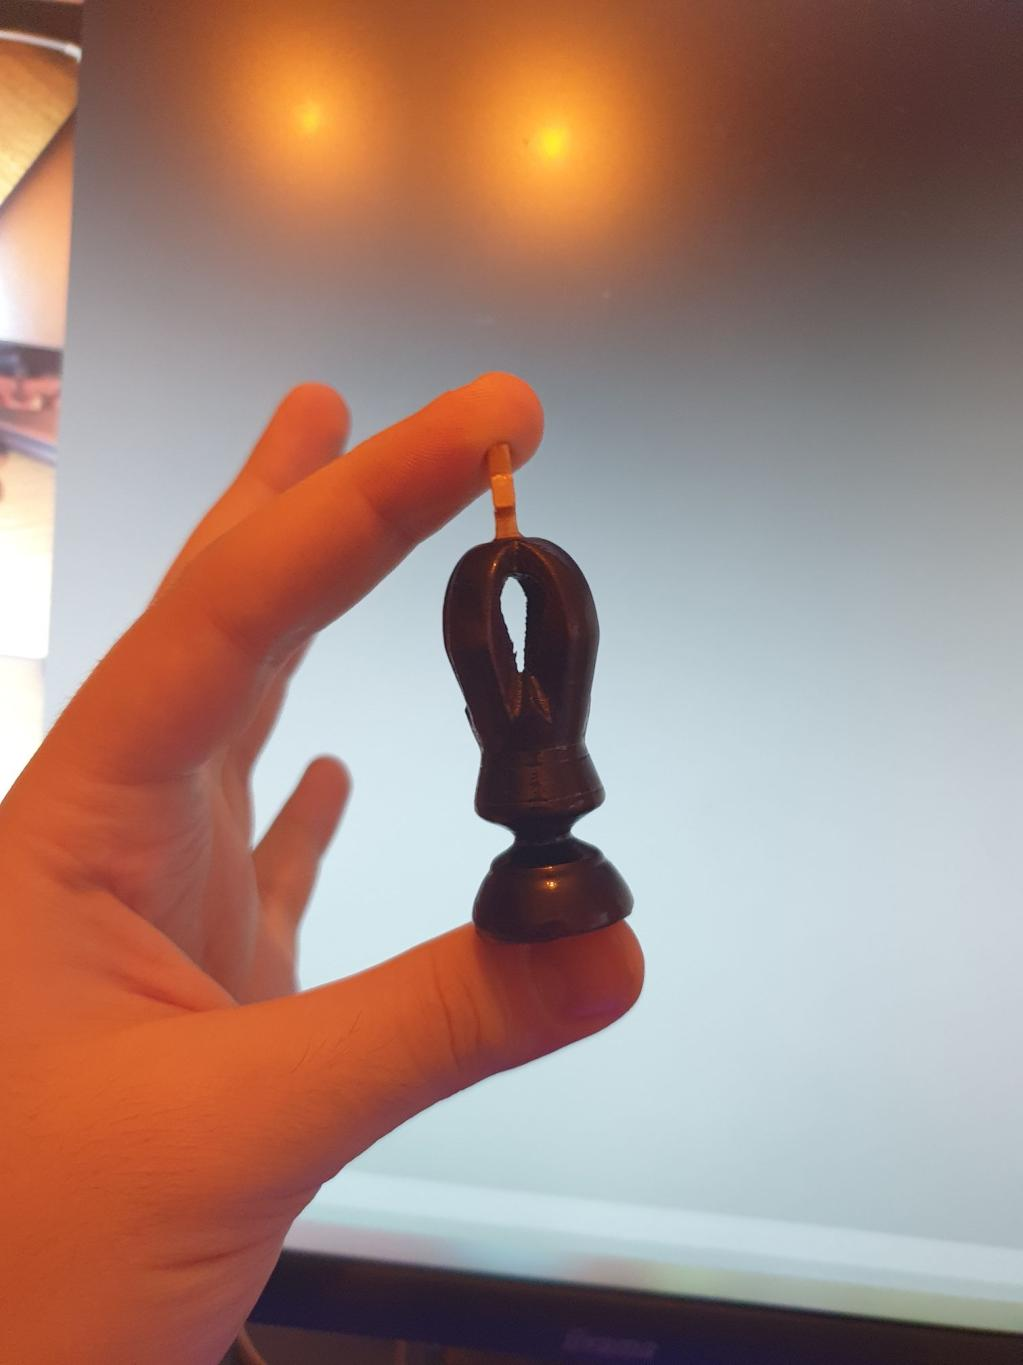bking: (443, 443, 642, 943)
